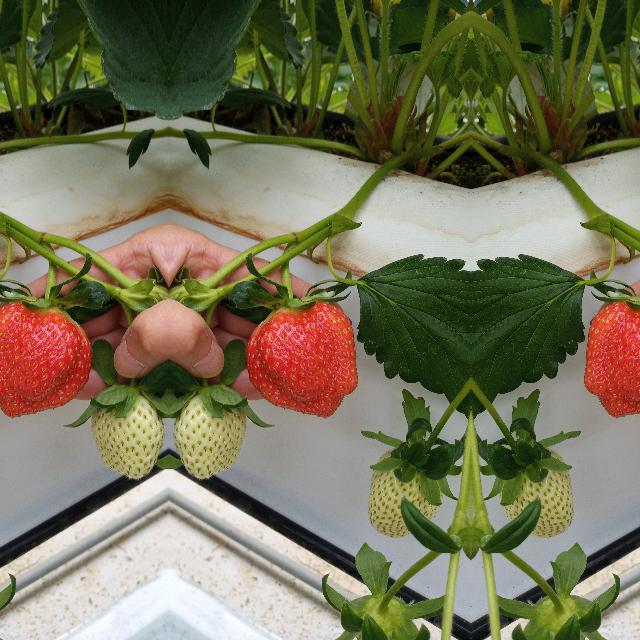Health_100: (245, 302, 358, 418), (0, 301, 91, 418), (583, 301, 640, 418)
Health_25: (174, 387, 244, 479), (92, 387, 162, 479), (364, 459, 436, 539), (505, 459, 577, 539)
